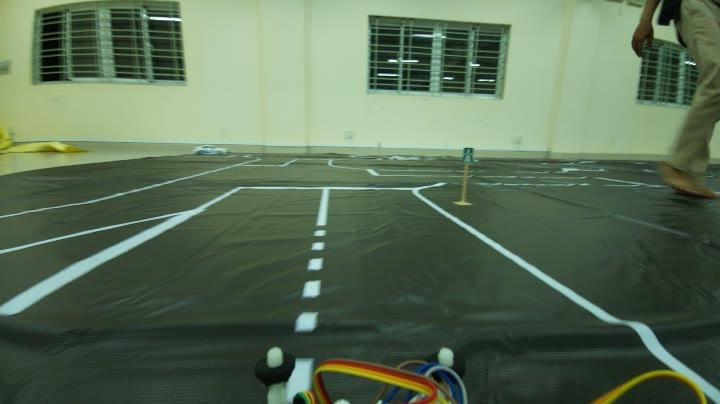highway_entry: (459, 141, 476, 168)
